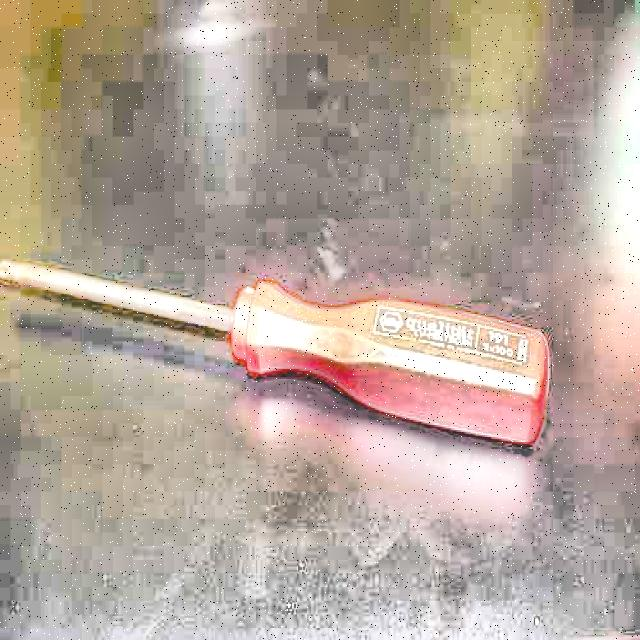screwdriver: (0, 258, 552, 443)
